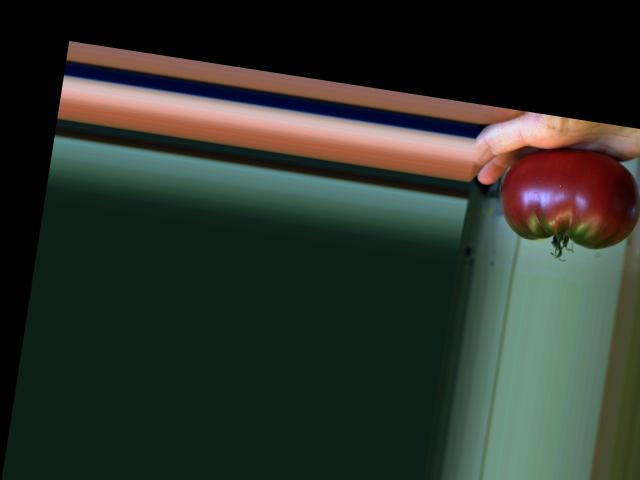tomato: (494, 138, 640, 255)
